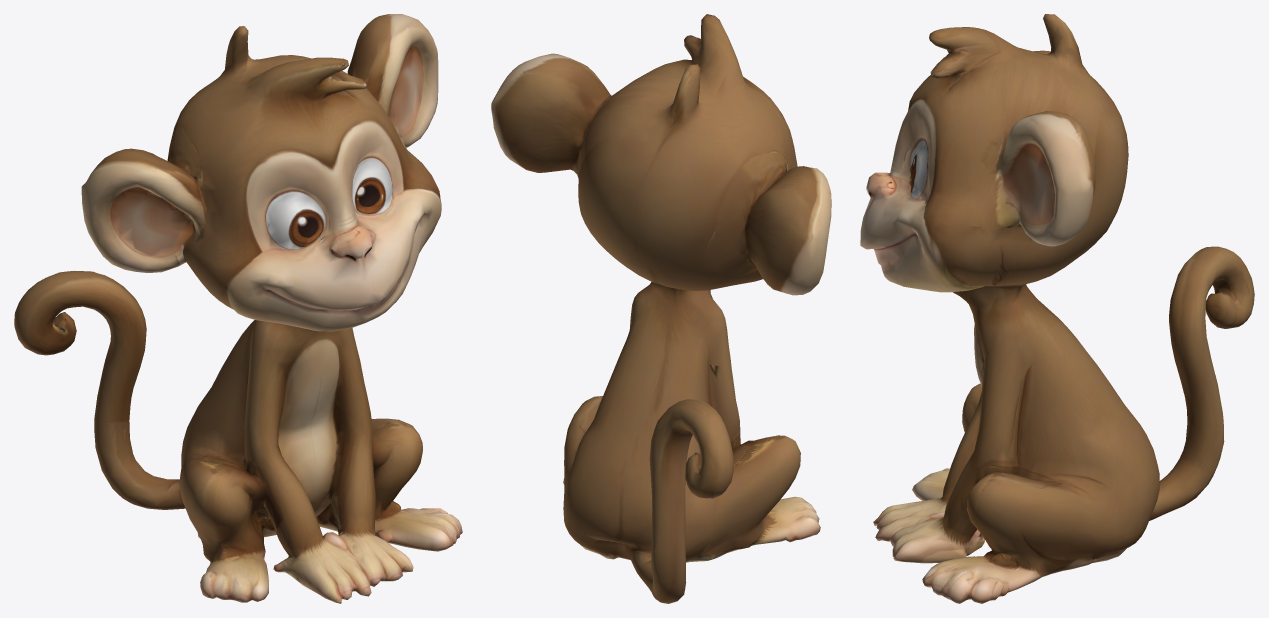
File: monkey.glb
The picture shows the model from 3 angles, left to right: view 1: azimuth 30°, elevation 25°; view 2: azimuth 150°, elevation 25°; view 3: azimuth 270°, elevation 25°; orthographic projection. The views are drawn at different scales.
Size of the model in its own units: 46776 by 65741 by 46150.
Materials: 1 (1 with a texture image).
